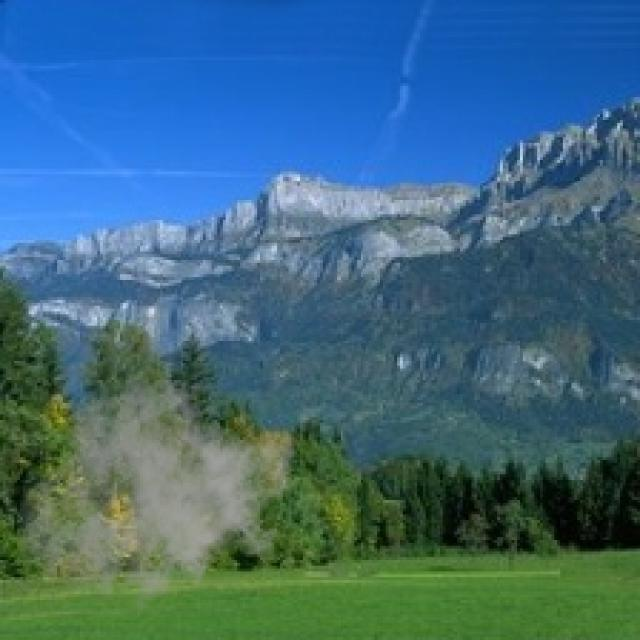Smoke: (14, 368, 297, 626)
